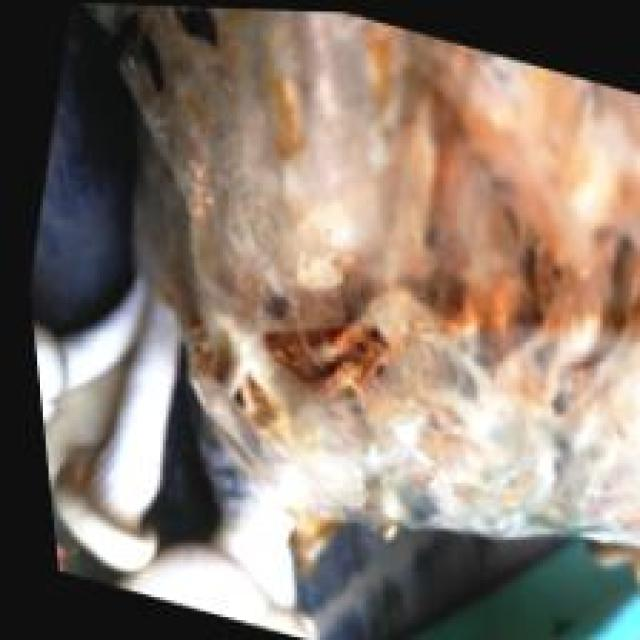chanterelle: (80, 3, 637, 637)
